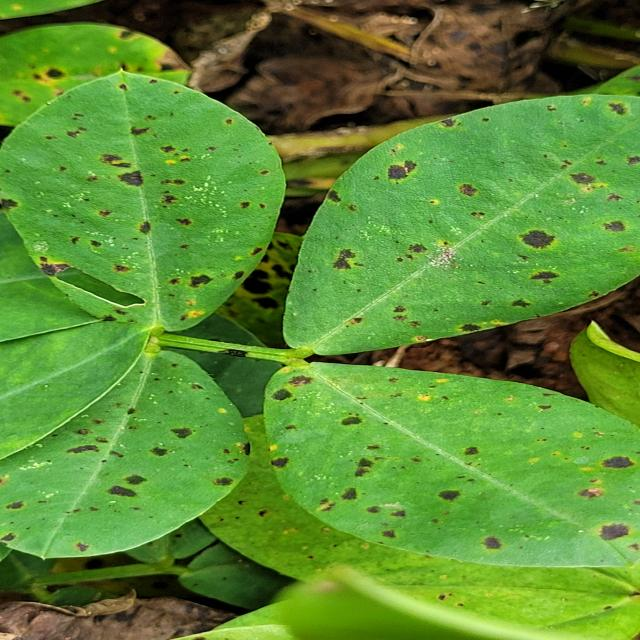Ground nut_tikka leaf spot: (294, 81, 640, 356), (257, 345, 640, 576), (0, 63, 289, 330)
